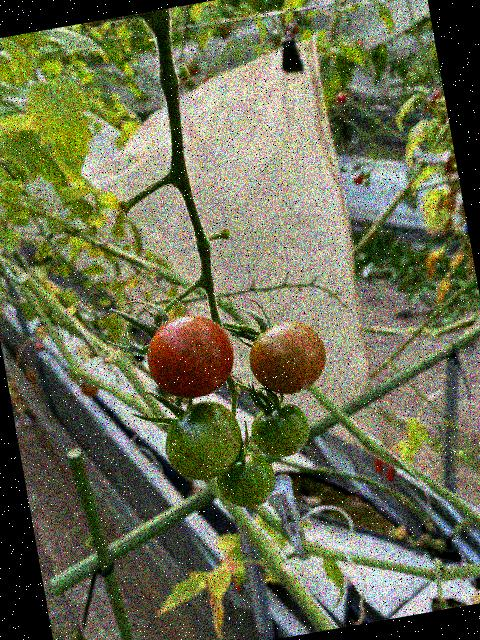l_fully_ripened: (141, 308, 240, 404)
l_green: (158, 395, 246, 485), (213, 448, 279, 513), (246, 399, 312, 461)
l_half_ripened: (243, 316, 332, 401)
